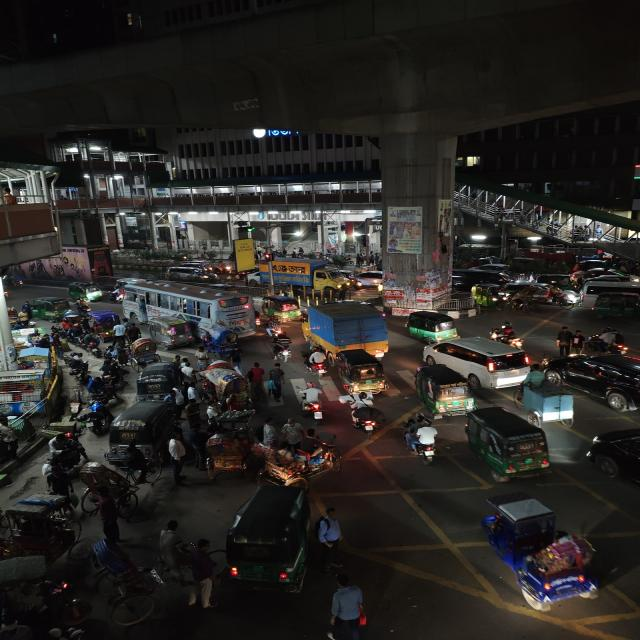bus: (119, 278, 260, 340)
car: (543, 352, 640, 418), (418, 336, 537, 388), (583, 425, 640, 503)
cng: (221, 480, 320, 598), (463, 405, 553, 483), (110, 405, 182, 459), (414, 363, 477, 418), (332, 348, 391, 402), (405, 309, 460, 343), (134, 363, 180, 403), (259, 292, 304, 322), (594, 291, 639, 320), (29, 297, 76, 321), (471, 280, 508, 310), (72, 282, 100, 304)
motorcycle: (402, 417, 444, 467), (348, 394, 384, 437), (80, 398, 113, 436), (299, 381, 327, 422), (592, 327, 631, 356), (303, 344, 334, 380), (491, 321, 525, 347), (270, 332, 295, 365), (260, 312, 283, 340)
pedestrian: (168, 534, 218, 610), (323, 572, 369, 640), (315, 504, 348, 554), (162, 435, 191, 482), (280, 417, 303, 454), (265, 363, 287, 401), (554, 324, 576, 358), (249, 360, 268, 398), (261, 416, 280, 450)
rickshaw: (481, 493, 611, 612), (91, 516, 193, 624), (80, 458, 164, 516), (252, 439, 342, 483), (332, 347, 391, 402), (200, 433, 250, 481), (471, 280, 508, 310), (126, 338, 160, 368)
truck: (303, 301, 393, 355), (273, 256, 346, 292)
